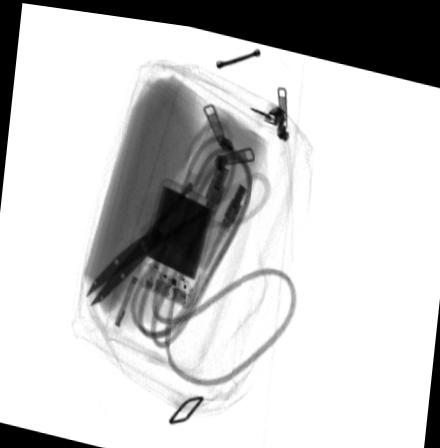Powerbank: (135, 172, 219, 306)
Scissors: (80, 114, 272, 309)
